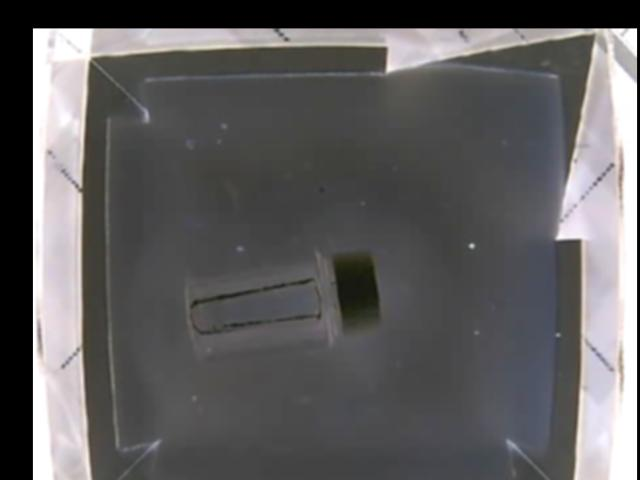Bottle: (186, 244, 383, 359)
